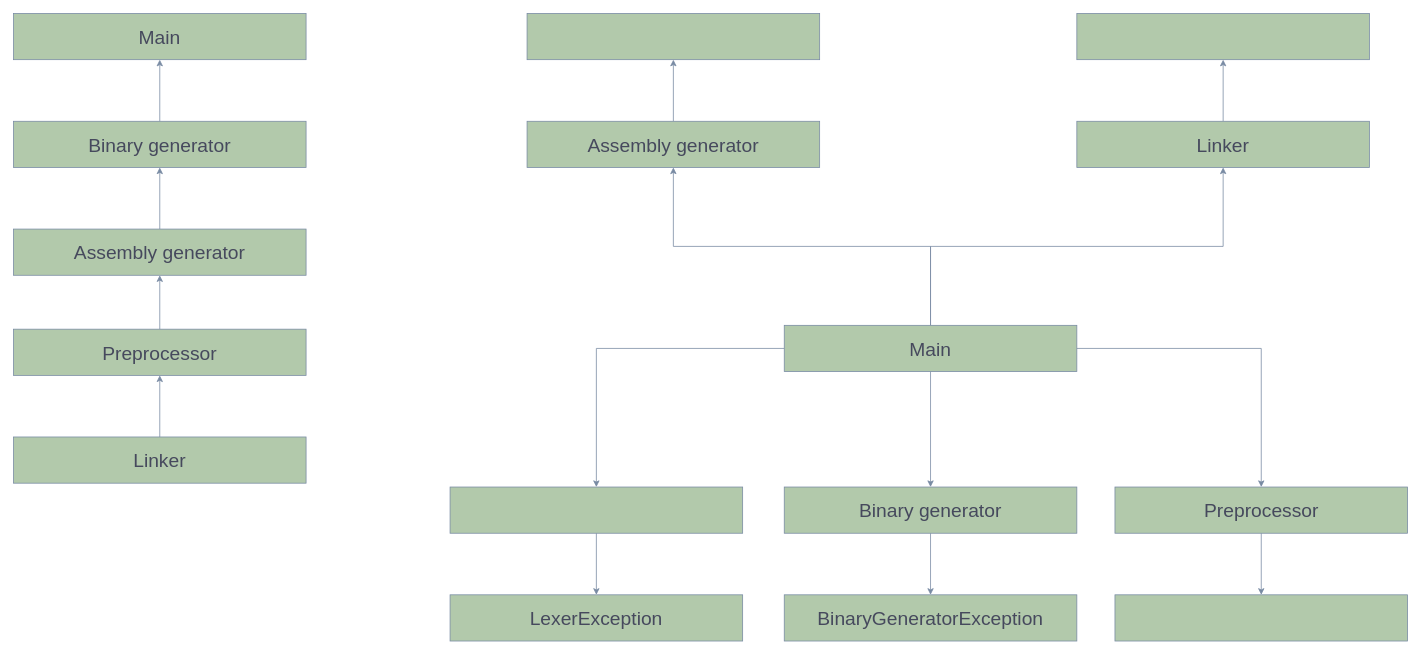
Image size: 1421x655. Some labels were removed from this diagram. Each missing label, with the centre of its shape:
AssemblyGeneratorException: the point at 673,36
Lexer: the point at 596,509
LinkerExceptions: the point at 1222,36
PreprocessorException: the point at 1261,617
